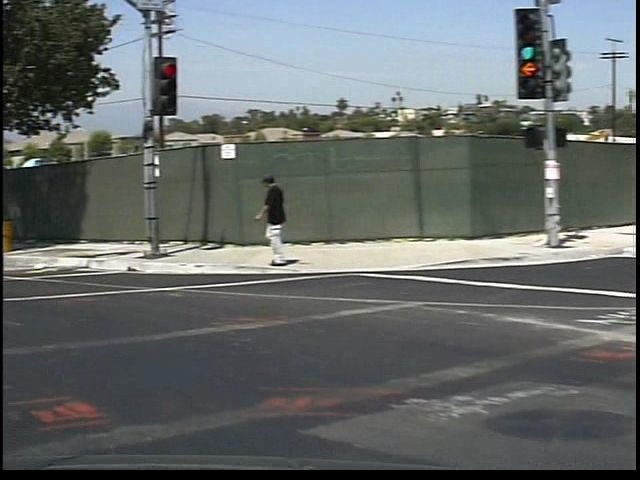person: (243, 170, 293, 284)
